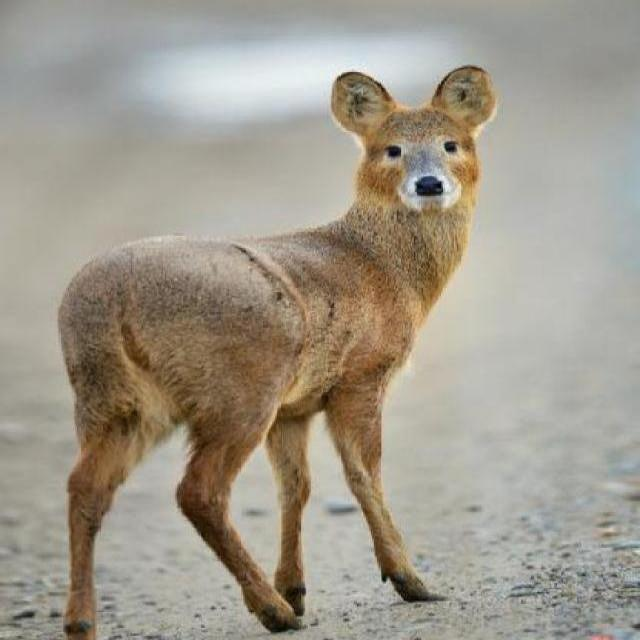deer: (35, 57, 502, 632)
